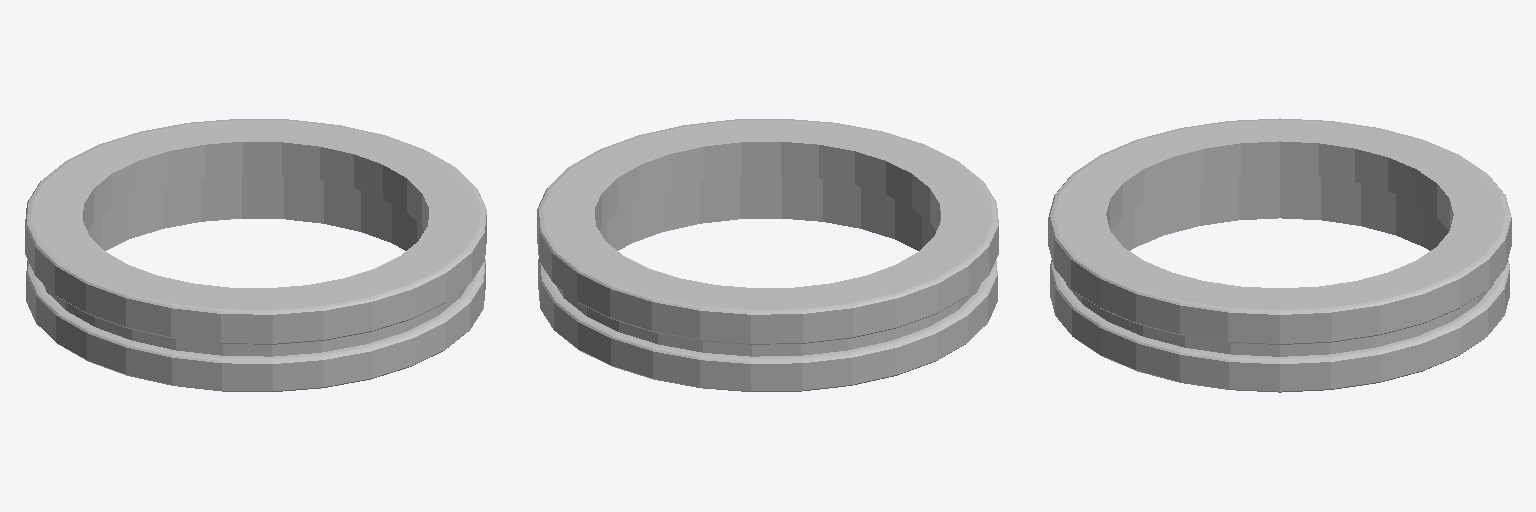
File: RING1.obj
3 renders of one model, left to right at view 1: azimuth 30°, elevation 25°; view 2: azimuth 150°, elevation 25°; view 3: azimuth 270°, elevation 25°, orthographic.
Parts seen in each view (by area): view 1: RING1; view 2: RING1; view 3: RING1.
Part boxes in pixels (x1,y1,x2,y2): RING1: (25,119,486,391); RING1: (537,119,998,391); RING1: (1048,118,1511,392).
Bounding box in the file's own units: 4.23 × 0.8284 × 4.23.